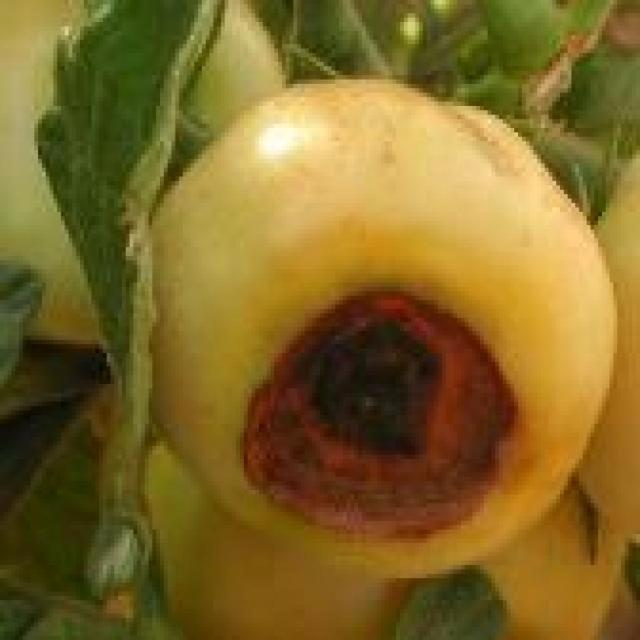Blossom End Rot Fruit: (144, 166, 378, 356)
